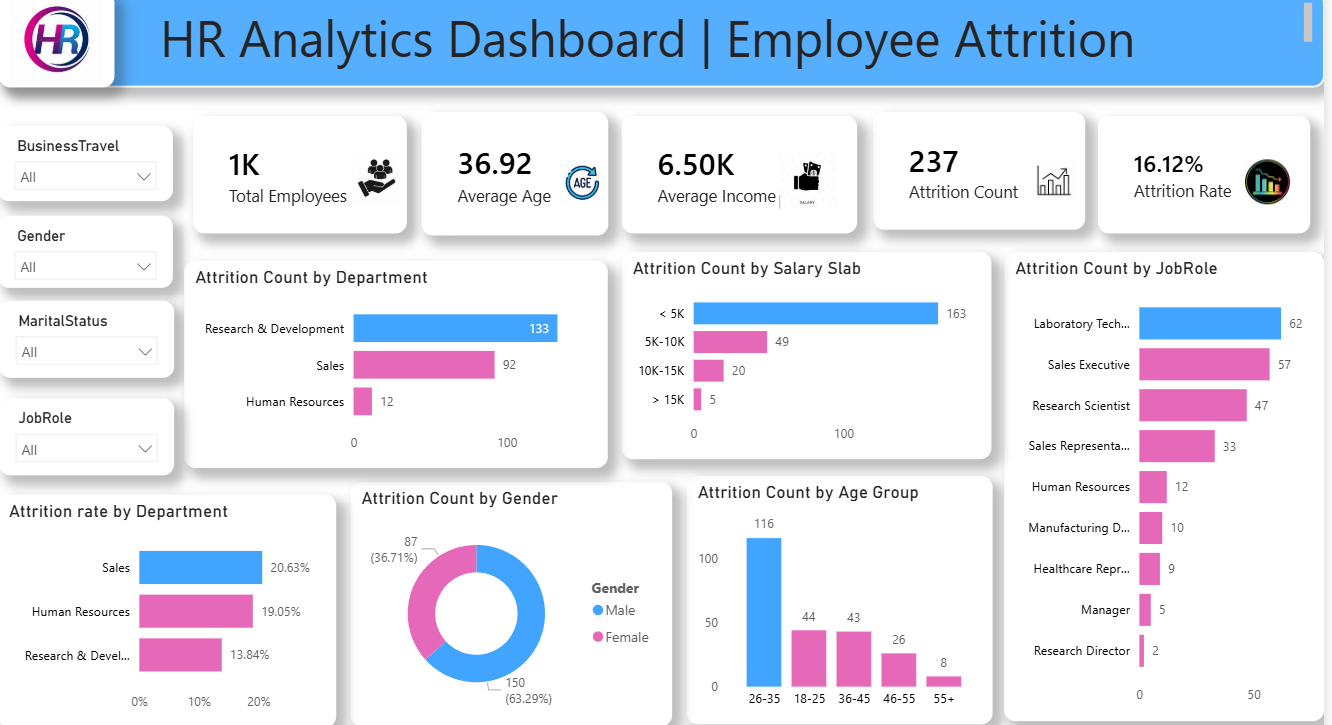

The dashboard page shown, as its layout file describes it:
{"tool":"powerbi","page":{"name":"Page 1","canvas":[1280,720],"ordinal":0},"visuals":[{"type":"cardVisual","fields":{"Data":["WA_Fn-UseC_-HR-Employee-Attrition.Total Employee"]},"box":[188.2,96.5,206.3,113.4],"z":0},{"type":"cardVisual","fields":{"Data":["WA_Fn-UseC_-HR-Employee-Attrition.Attrition Count"]},"box":[846.9,100.1,205.1,113.4],"z":1000},{"type":"cardVisual","fields":{"Data":["WA_Fn-UseC_-HR-Employee-Attrition.Average age"]},"box":[406.6,94.1,179.8,119.4],"z":2000},{"type":"cardVisual","fields":{"Data":["WA_Fn-UseC_-HR-Employee-Attrition.Attrition rate"]},"box":[1061.7,100.1,205.1,113.4],"z":3000},{"type":"cardVisual","fields":{"Data":["WA_Fn-UseC_-HR-Employee-Attrition.Average income"]},"box":[602,100.1,226.8,113.4],"z":4000},{"type":"columnChart","fields":{"Y":["WA_Fn-UseC_-HR-Employee-Attrition.Attrition Count"],"Category":["WA_Fn-UseC_-HR-Employee-Attrition.Age Group"]},"box":[664.2,466.6,295,240.1],"z":5000},{"type":"clusteredBarChart","fields":{"Category":["WA_Fn-UseC_-HR-Employee-Attrition.JobRole"],"Y":["WA_Fn-UseC_-HR-Employee-Attrition.Attrition Count"]},"box":[971.2,231.6,308.8,471.7],"z":6000},{"type":"donutChart","fields":{"Category":["WA_Fn-UseC_-HR-Employee-Attrition.Gender"],"Y":["WA_Fn-UseC_-HR-Employee-Attrition.Attrition Count"]},"box":[340.3,473.4,310.1,236],"z":7000},{"type":"barChart","fields":{"Y":["WA_Fn-UseC_-HR-Employee-Attrition.Attrition Count"],"Category":["WA_Fn-UseC_-HR-Employee-Attrition.Salary Slab"]},"box":[602,231.6,357.1,219.6],"z":8000},{"type":"slicer","fields":{"Values":["WA_Fn-UseC_-HR-Employee-Attrition.BusinessTravel"]},"box":[1.2,86.9,168.9,92.9],"z":9000},{"type":"slicer","fields":{"Values":["WA_Fn-UseC_-HR-Employee-Attrition.Gender"]},"box":[1.2,190.6,168.9,79.6],"z":10000},{"type":"slicer","fields":{"Values":["WA_Fn-UseC_-HR-Employee-Attrition.MaritalStatus"]},"box":[1.2,284.7,168.9,74.8],"z":11000},{"type":"barChart","fields":{"Category":["WA_Fn-UseC_-HR-Employee-Attrition.Department"],"Y":["WA_Fn-UseC_-HR-Employee-Attrition.Attrition Count"]},"box":[179.8,231.6,409,228],"z":12000},{"type":"barChart","fields":{"Y":["WA_Fn-UseC_-HR-Employee-Attrition.Attrition rate"],"Category":["WA_Fn-UseC_-HR-Employee-Attrition.Department"]},"box":[0,484.4,326.6,225],"z":13000},{"type":"slicer","fields":{"Values":["WA_Fn-UseC_-HR-Employee-Attrition.JobRole"]},"box":[1.2,381.2,168.9,85.7],"z":14000},{"type":"textbox","box":[1.2,0,1278.8,73.6],"z":15000},{"type":"image","box":[336.6,155.6,57.9,48.3],"z":16000},{"type":"image","box":[526,161.7,76,44.6],"z":17000},{"type":"image","box":[744.4,154.4,73.6,55.5],"z":18000},{"type":"image","box":[1202.8,161.7,44.6,43.4],"z":19000},{"type":"image","box":[998.9,153.2,41,56.7],"z":20000},{"type":"image","box":[1.2,0,178.6,73.6],"z":21000}]}

Visuals, with their boxes in screenshot pixels (x1, y1, x2, y2):
cardVisual - WA_Fn-UseC_-HR-Employee-Attrition.Total Employee: (left=194, top=51, right=406, bottom=168)
cardVisual - WA_Fn-UseC_-HR-Employee-Attrition.Attrition Count: (left=872, top=54, right=1083, bottom=171)
cardVisual - WA_Fn-UseC_-HR-Employee-Attrition.Average age: (left=419, top=48, right=604, bottom=171)
cardVisual - WA_Fn-UseC_-HR-Employee-Attrition.Attrition rate: (left=1093, top=54, right=1304, bottom=171)
cardVisual - WA_Fn-UseC_-HR-Employee-Attrition.Average income: (left=620, top=54, right=853, bottom=171)
columnChart - WA_Fn-UseC_-HR-Employee-Attrition.Attrition Count x WA_Fn-UseC_-HR-Employee-Attrition.Age Group: (left=684, top=432, right=987, bottom=679)
clusteredBarChart - WA_Fn-UseC_-HR-Employee-Attrition.JobRole x WA_Fn-UseC_-HR-Employee-Attrition.Attrition Count: (left=1000, top=190, right=1318, bottom=675)
donutChart - WA_Fn-UseC_-HR-Employee-Attrition.Gender x WA_Fn-UseC_-HR-Employee-Attrition.Attrition Count: (left=350, top=439, right=670, bottom=682)
barChart - WA_Fn-UseC_-HR-Employee-Attrition.Attrition Count x WA_Fn-UseC_-HR-Employee-Attrition.Salary Slab: (left=620, top=190, right=987, bottom=416)
slicer - WA_Fn-UseC_-HR-Employee-Attrition.BusinessTravel: (left=1, top=41, right=175, bottom=137)
slicer - WA_Fn-UseC_-HR-Employee-Attrition.Gender: (left=1, top=148, right=175, bottom=230)
slicer - WA_Fn-UseC_-HR-Employee-Attrition.MaritalStatus: (left=1, top=245, right=175, bottom=322)
barChart - WA_Fn-UseC_-HR-Employee-Attrition.Department x WA_Fn-UseC_-HR-Employee-Attrition.Attrition Count: (left=185, top=190, right=606, bottom=425)
barChart - WA_Fn-UseC_-HR-Employee-Attrition.Attrition rate x WA_Fn-UseC_-HR-Employee-Attrition.Department: (left=0, top=450, right=336, bottom=682)
slicer - WA_Fn-UseC_-HR-Employee-Attrition.JobRole: (left=1, top=344, right=175, bottom=432)
textbox: (left=1, top=0, right=1318, bottom=27)
image: (left=347, top=112, right=406, bottom=161)
image: (left=542, top=118, right=620, bottom=164)
image: (left=766, top=110, right=842, bottom=168)
image: (left=1238, top=118, right=1284, bottom=163)
image: (left=1028, top=109, right=1071, bottom=168)
image: (left=1, top=0, right=185, bottom=27)
